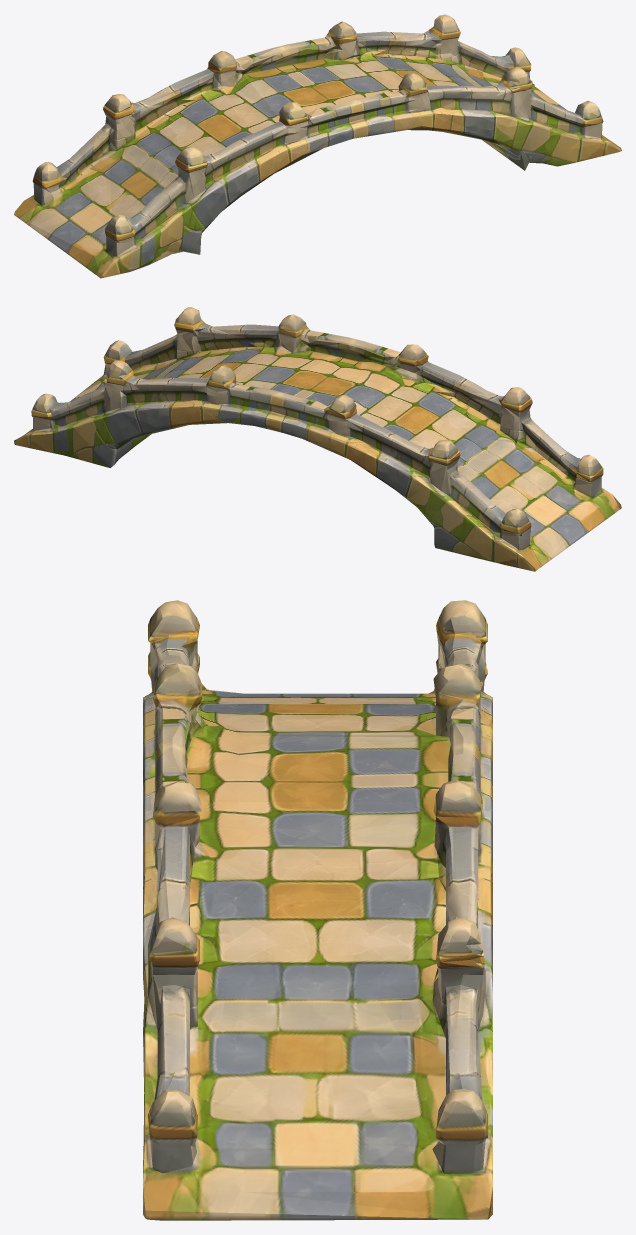
Rendered from stone-bridge.glb.
3 renders of one model, top to bottom at view 1: azimuth 30°, elevation 25°; view 2: azimuth 150°, elevation 25°; view 3: azimuth 270°, elevation 25°, orthographic. The views are drawn at different scales.
Parts seen in each view (by area): view 1: output_unwrapped; view 2: output_unwrapped; view 3: output_unwrapped.
Part boxes in pixels (x1,y1,x2,y2): output_unwrapped: (14, 14, 621, 278); output_unwrapped: (14, 307, 621, 571); output_unwrapped: (143, 600, 492, 1220).
Size of the model in its own units: 1.9 by 0.4227 by 0.5519.
Materials: 1 (1 with a texture image).
